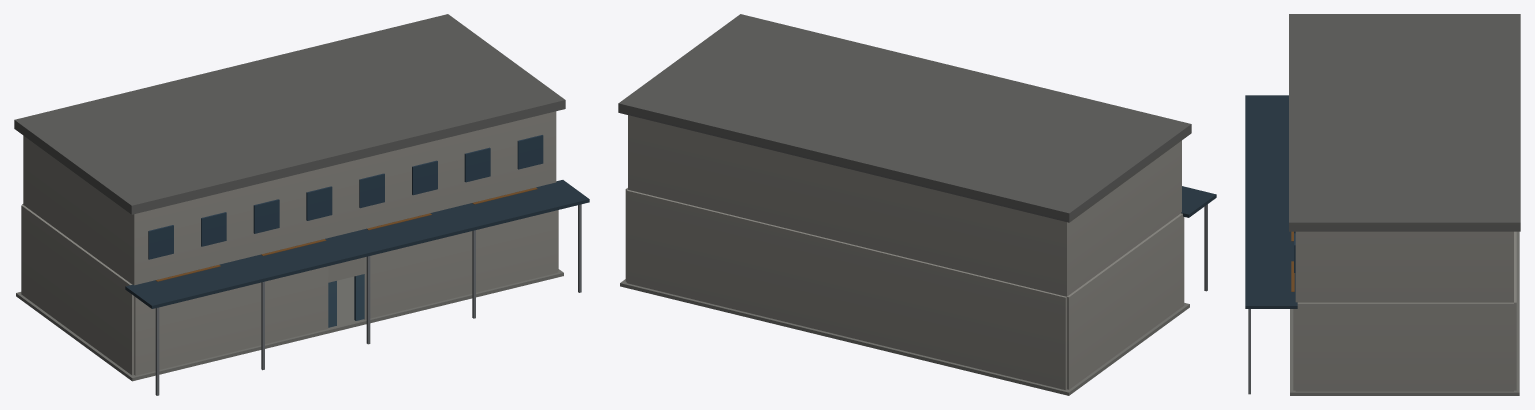
Rendered from town_city_shops.glb.
3 renders of one model, left to right at view 1: azimuth 30°, elevation 25°; view 2: azimuth 150°, elevation 25°; view 3: azimuth 270°, elevation 25°, orthographic. The views are drawn at different scales.
Visible parts, largest first — view 1: prop; view 2: prop; view 3: prop.
Part boxes in pixels (x1,y1,x2,y2): prop: (14, 14, 589, 395); prop: (618, 14, 1216, 395); prop: (1245, 14, 1520, 395).
Size of the model in its own units: 22.8 by 8.78 by 12.6.
